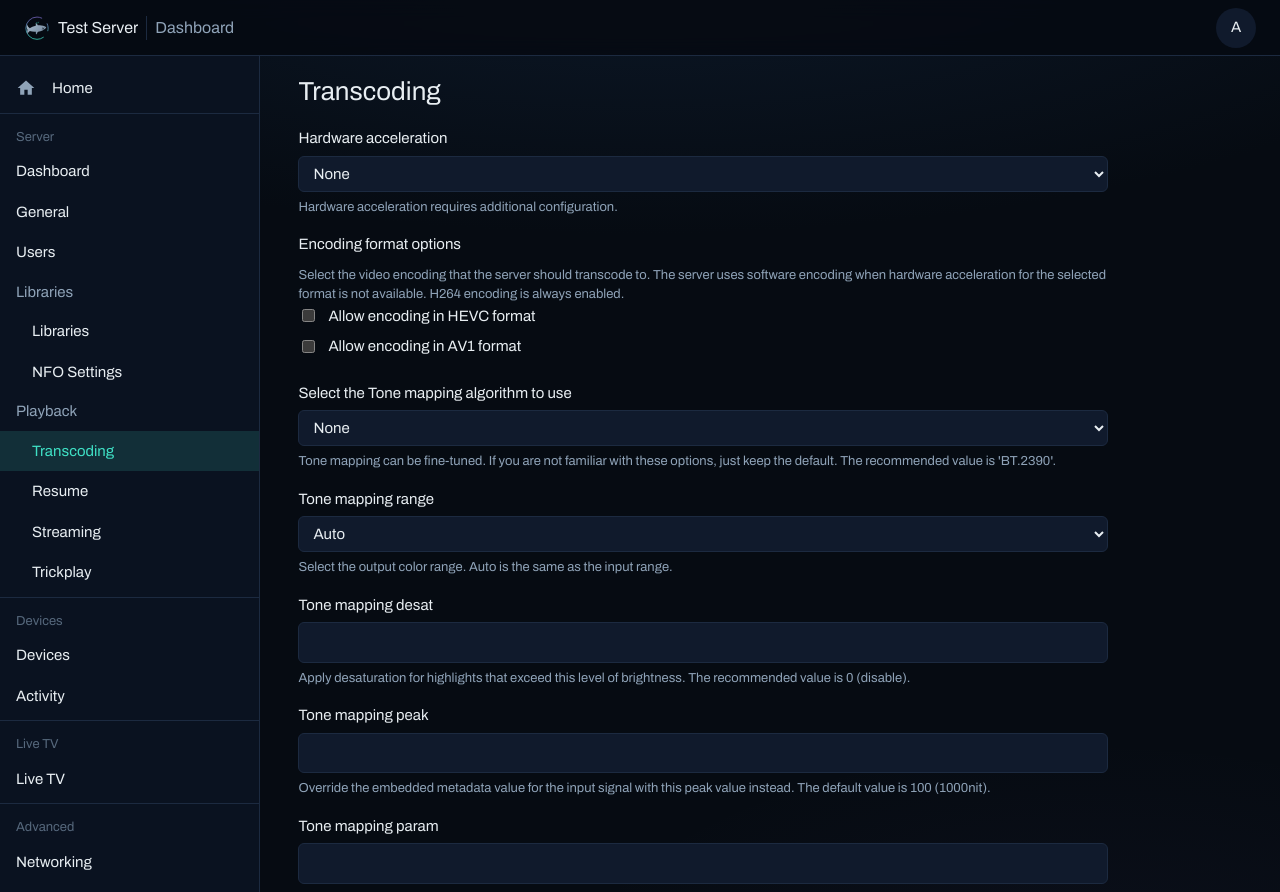
Test: transcoding › shows the decoders of the chosen acceleration and saves the stored options with the changes
Select "Intel Quicksync (QSV)" in the dropdown labelled "Hardware acceleration" at (703, 174), box [298,156,1108,192]
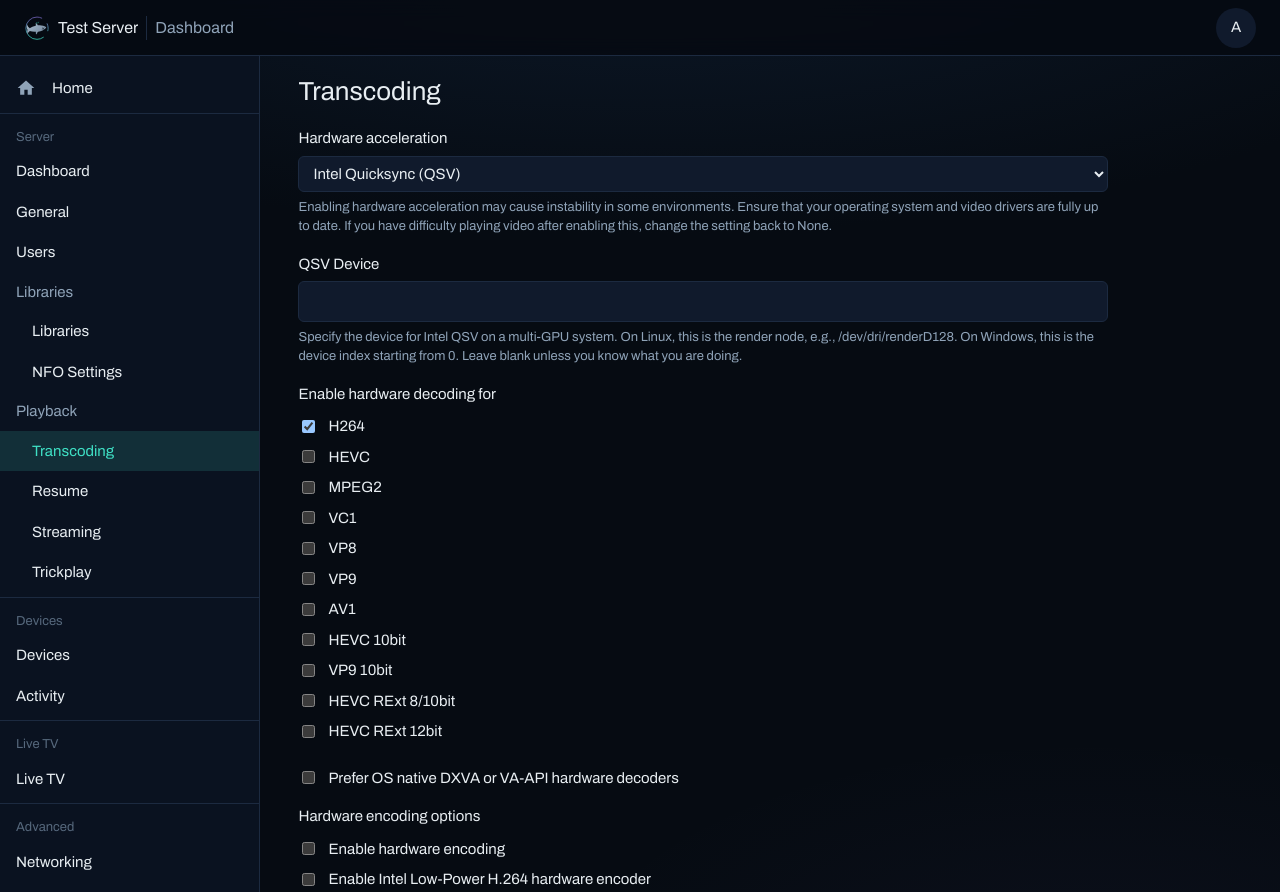
Result: the checkbox labelled "VC1" is shown at [302,511,315,524]
Result: the checkbox labelled "H264" is checked at [302,420,315,433]
Click the checkbox labelled "HEVC" at (309, 457), box [302,450,315,463]
(page scrolled)
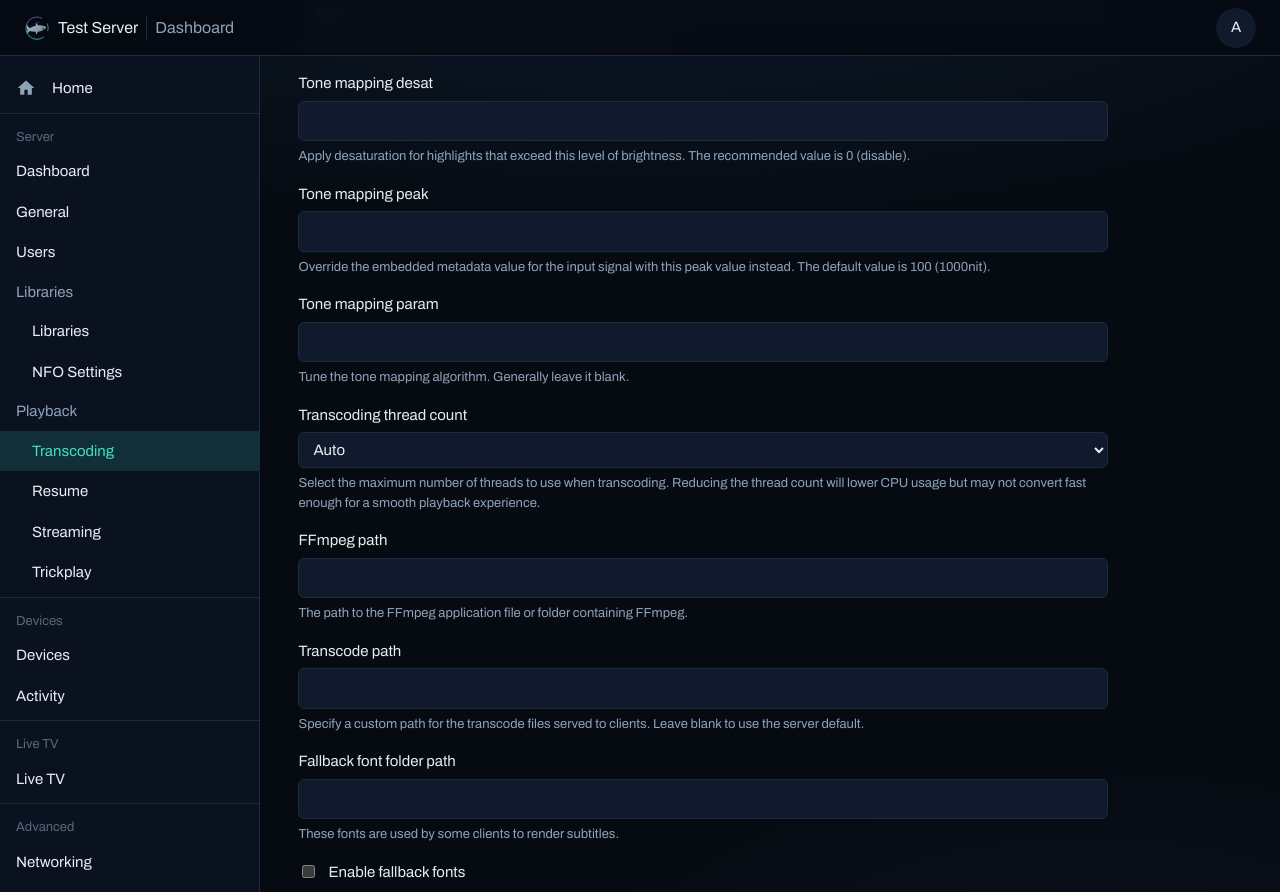
Select "4" in the dropdown labelled "Transcoding thread count" at (703, 450), box [298,432,1108,468]
(page scrolled)
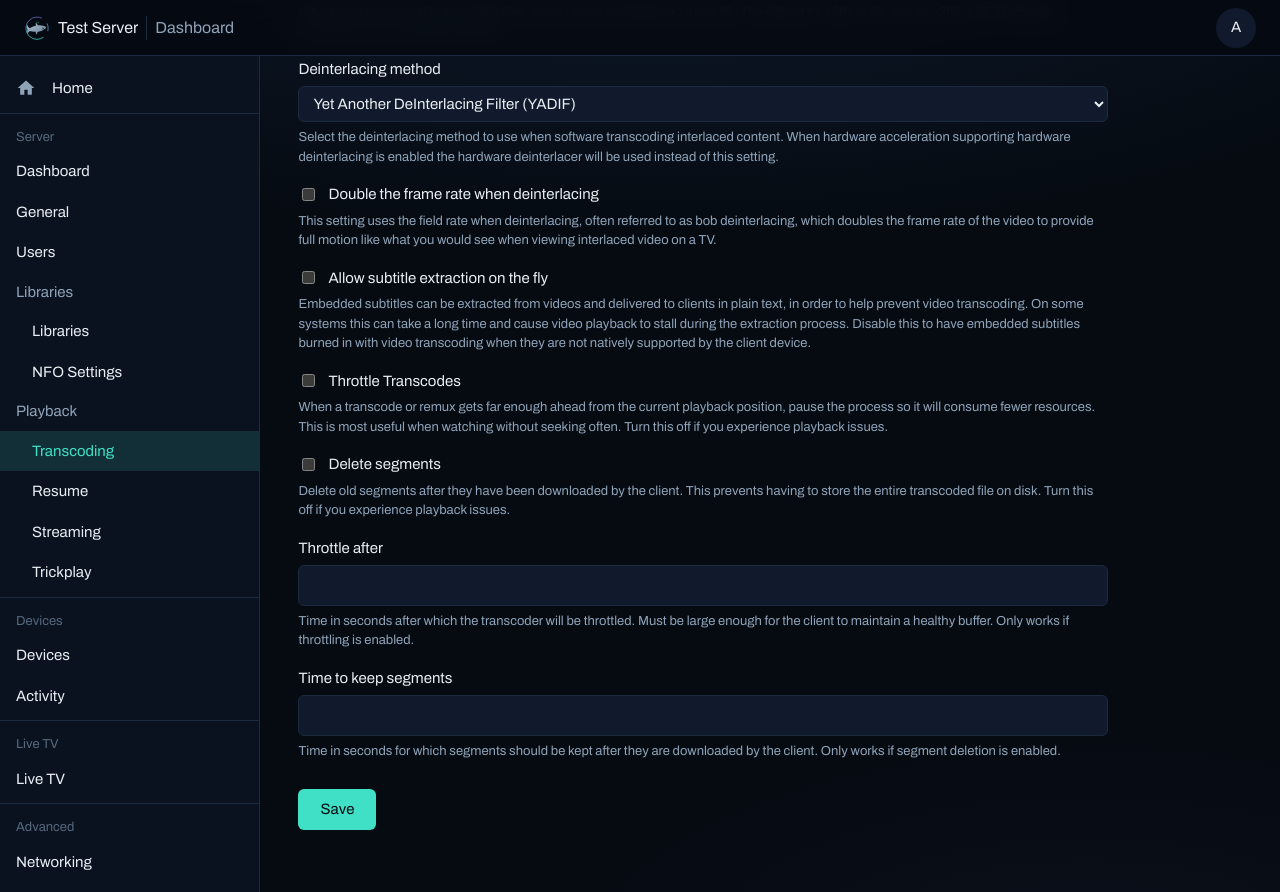
Click the button "Save" at (337, 809), box [298,789,376,830]
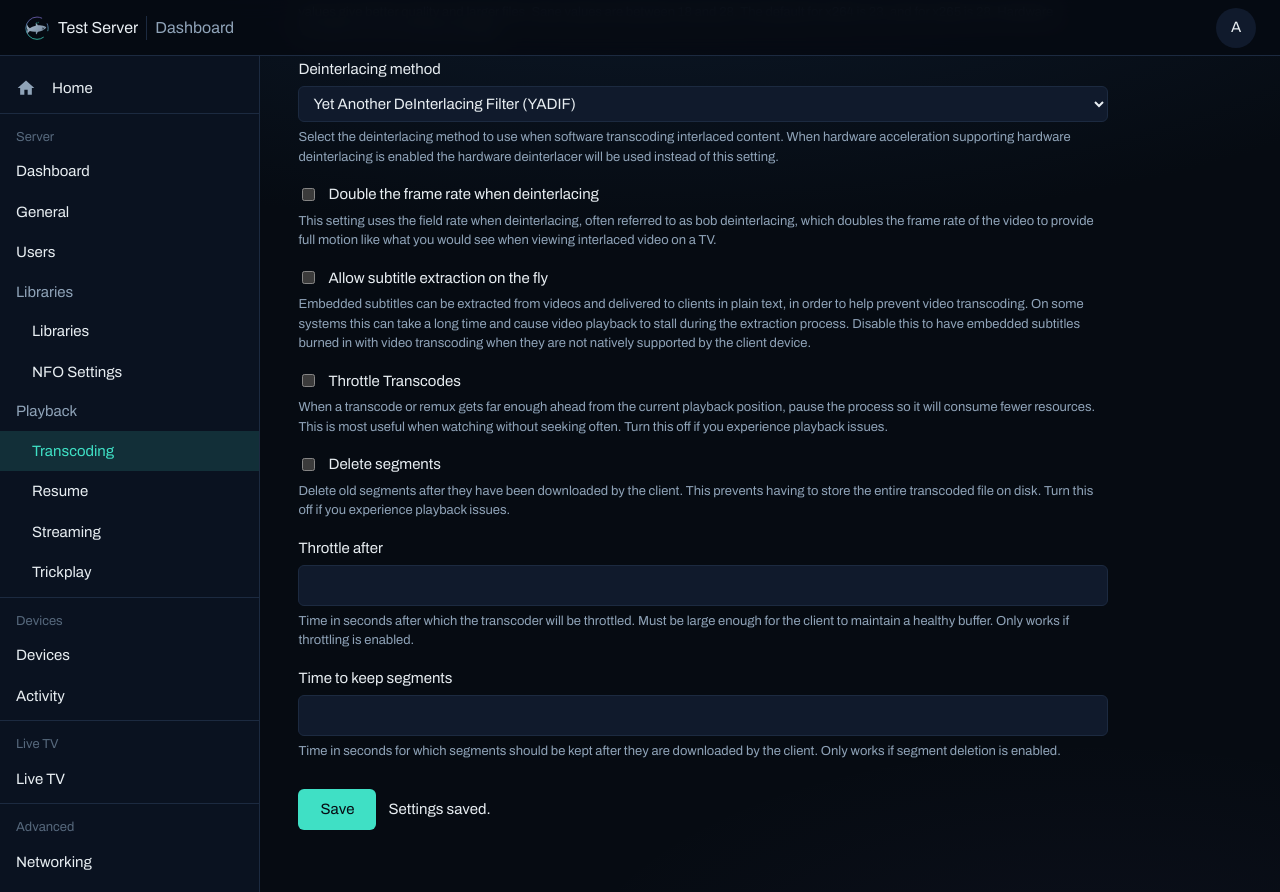
Result: the text "Settings saved." is shown at [388,798,491,820]
